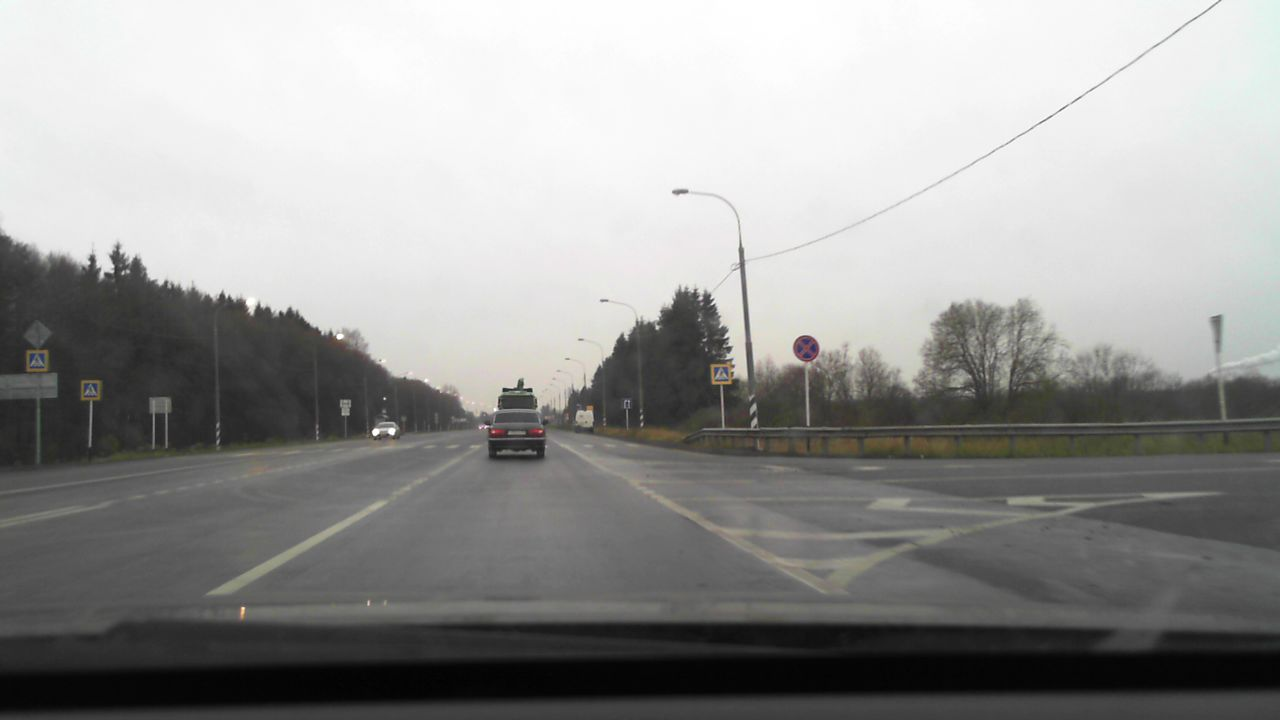No Parking: (792, 334, 819, 362)
